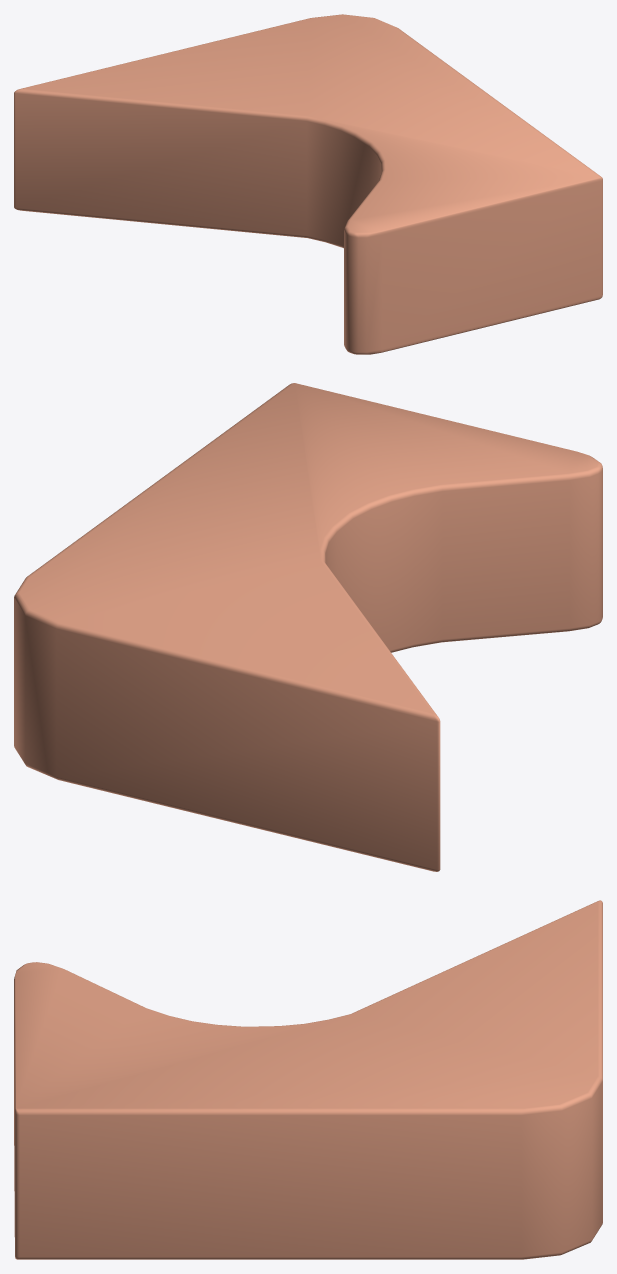
The model's file is island_lv3_2.fbx.
3 renders of one model, top to bottom at view 1: azimuth 30°, elevation 25°; view 2: azimuth 150°, elevation 25°; view 3: azimuth 270°, elevation 25°, orthographic. The views are drawn at different scales.
Parts seen in each view (by area): view 1: island_lv3_2; view 2: island_lv3_2; view 3: island_lv3_2.
Part boxes in pixels (x1,y1,x2,y2): island_lv3_2: (14, 14, 602, 354); island_lv3_2: (14, 383, 602, 871); island_lv3_2: (14, 900, 602, 1259).
Size of the model in its own units: 1518 by 500 by 1772.
